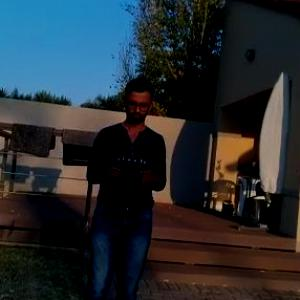follow: (80, 72, 172, 299)
